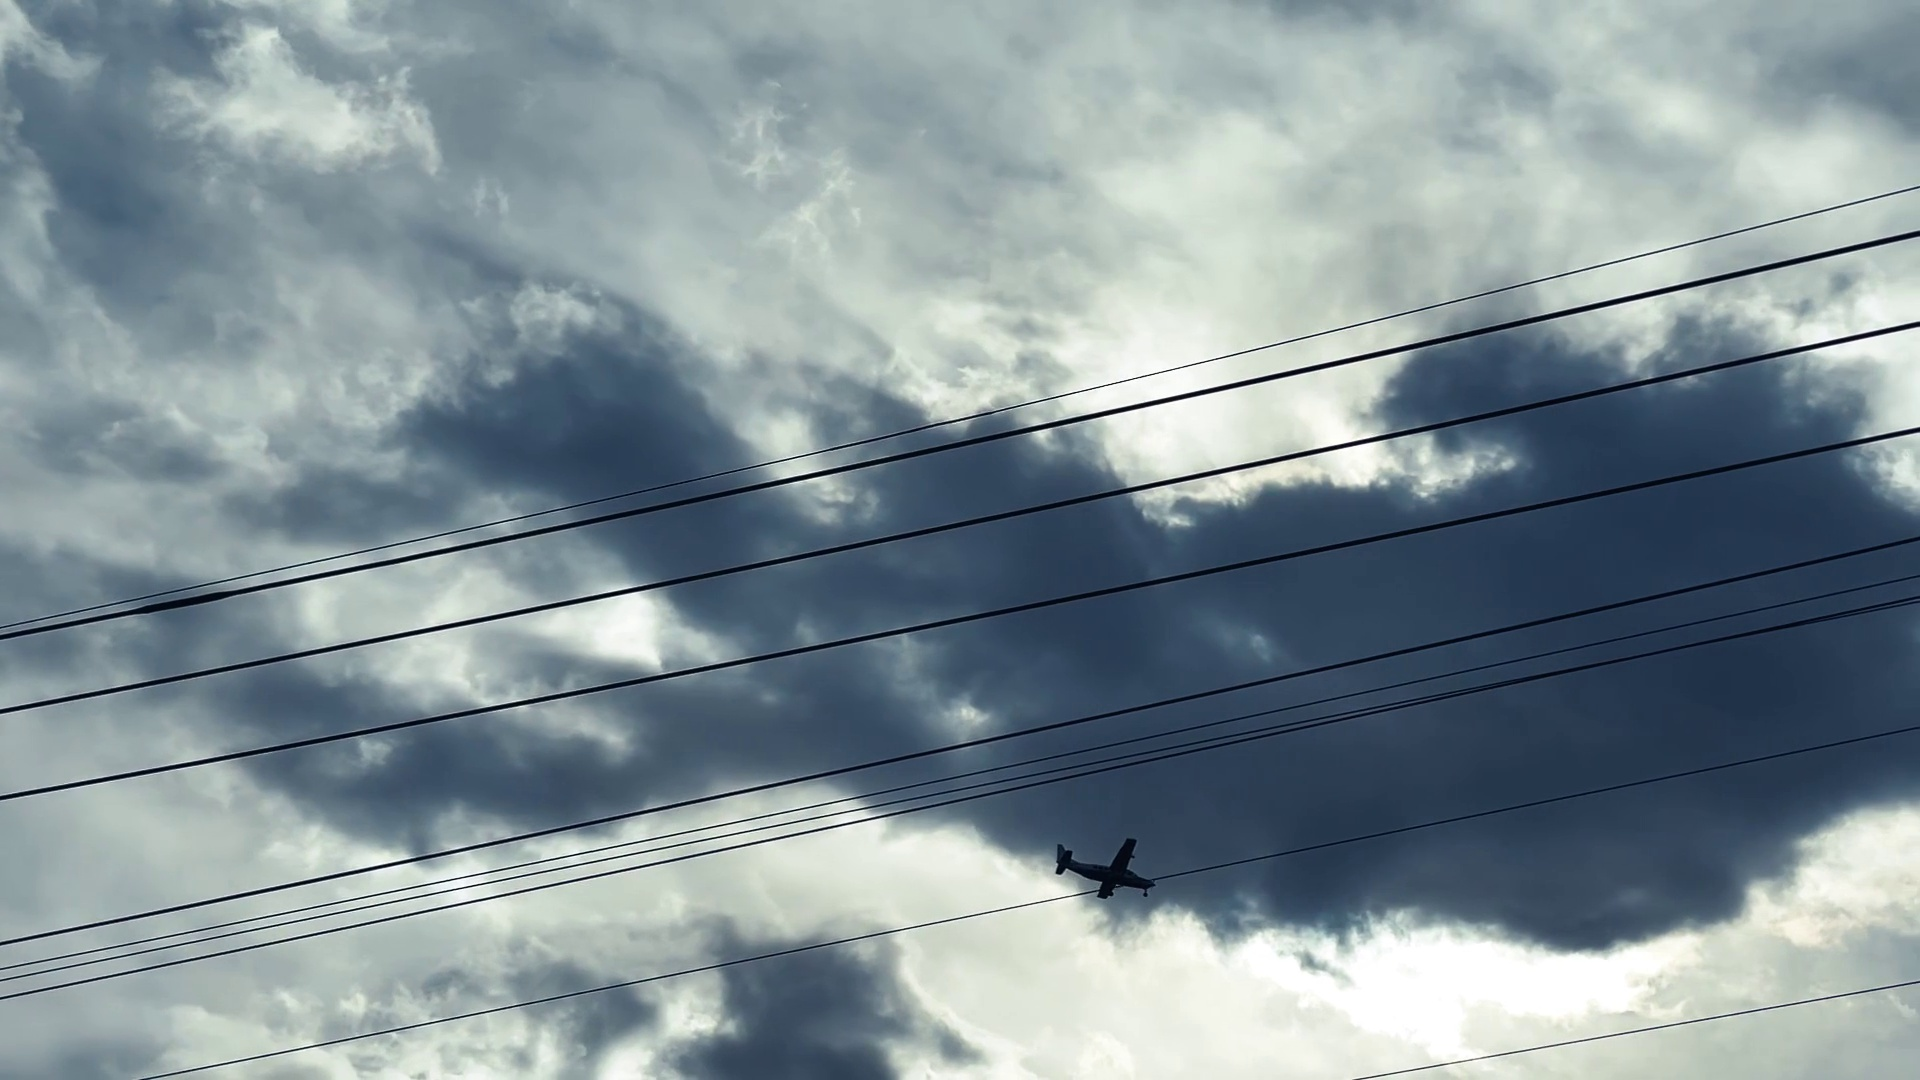plane: (1056, 837, 1154, 899)
